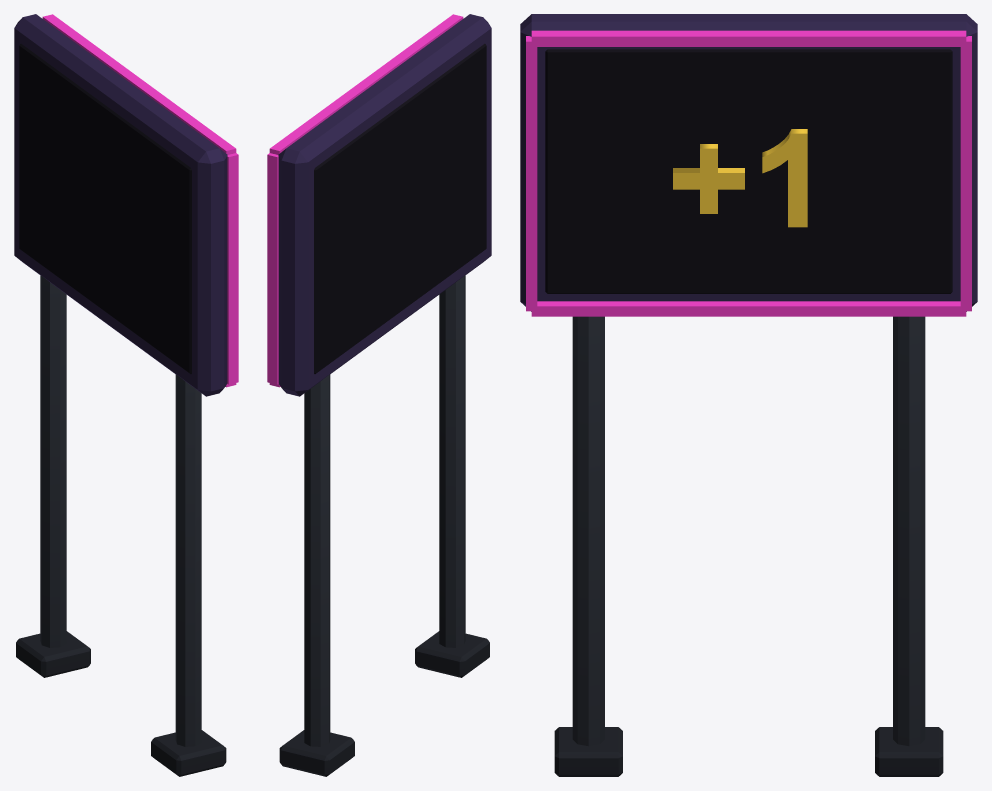
File: sign_plus1.glb
3 renders of one model, left to right at view 1: azimuth 30°, elevation 25°; view 2: azimuth 150°, elevation 25°; view 3: azimuth 270°, elevation 25°, orthographic. The views are drawn at different scales.
Visible parts, largest first — view 1: Body, Glow; view 2: Body, Glow; view 3: Body, Glow.
Part boxes in pixels (x1,y1,x2,y2): Body: (14,14,227,776); Glow: (42,14,238,387); Body: (278,14,491,776); Glow: (267,14,463,387); Body: (520,14,977,776); Glow: (526,30,971,316).
Bounding box in the file's own units: 0.305 × 3.6 × 2.
